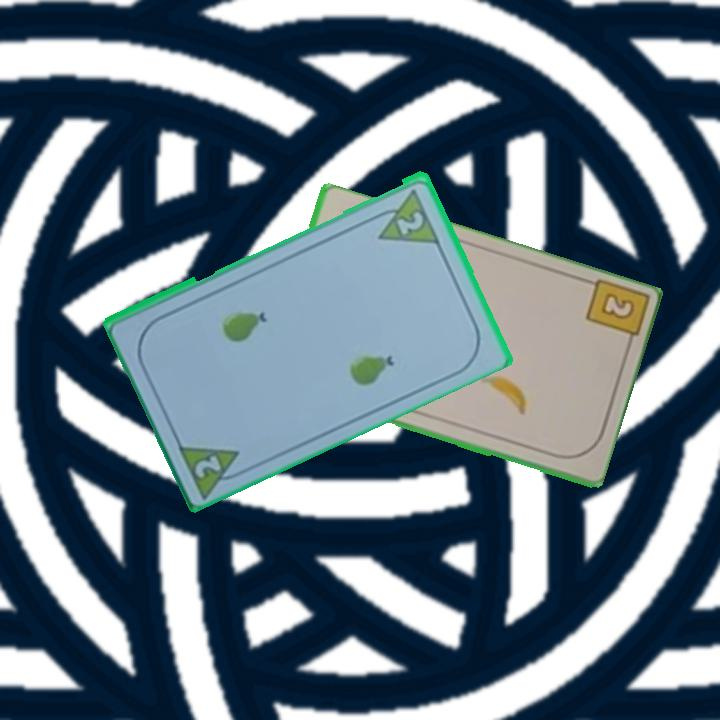2b: (581, 277, 648, 355)
2p: (393, 207, 427, 238), (190, 451, 225, 481)
